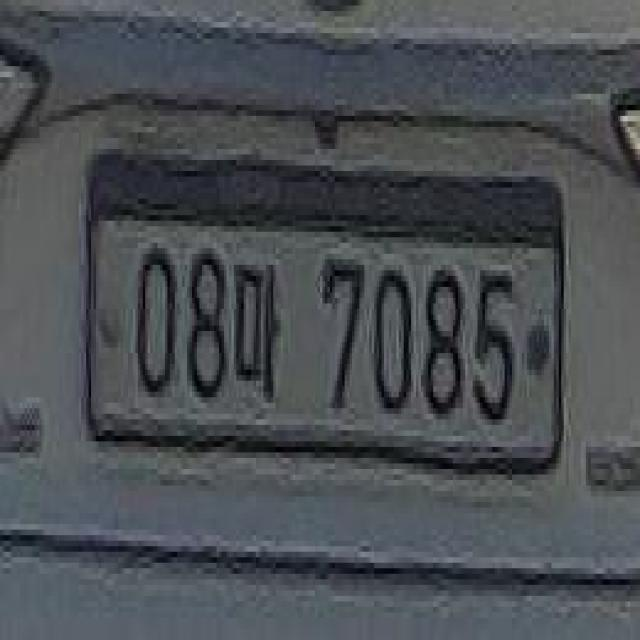illegal_plate: (86, 182, 569, 497)
